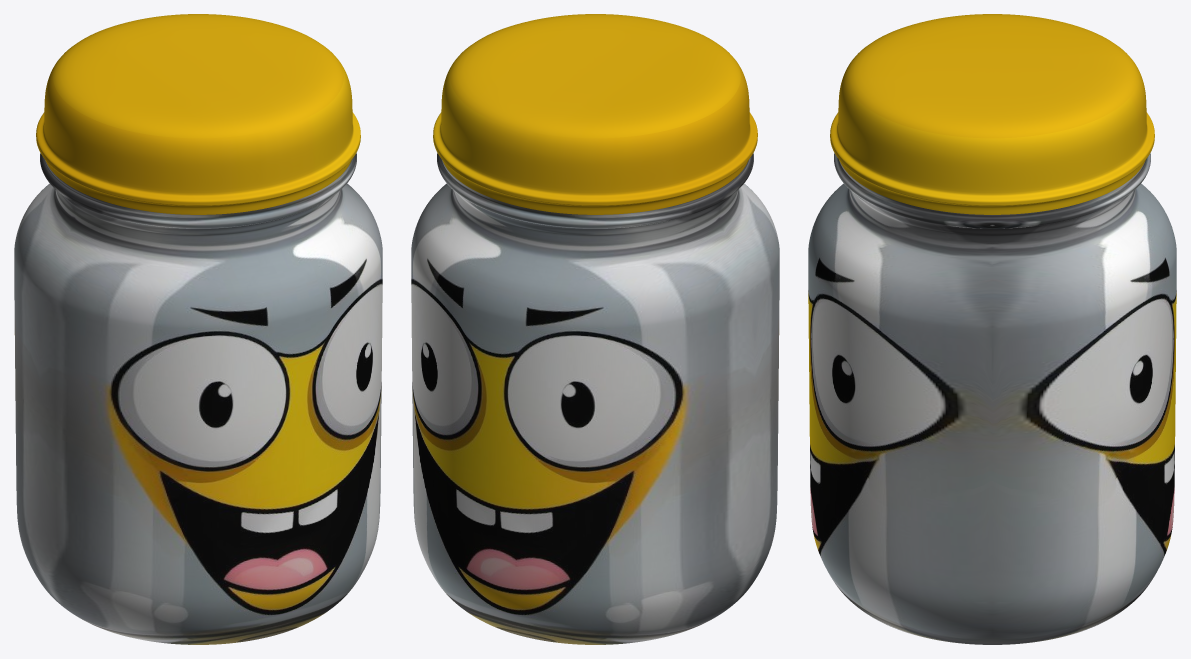
File: 3d_vidro.gltf
3 renders of one model, left to right at view 1: azimuth 30°, elevation 25°; view 2: azimuth 150°, elevation 25°; view 3: azimuth 270°, elevation 25°, orthographic.
Visible parts, largest first — view 1: Cylinder; view 2: Cylinder; view 3: Cylinder.
Part boxes in pixels (box(x1,y1,x2,y2)): Cylinder: box(14, 14, 382, 644); Cylinder: box(411, 14, 779, 644); Cylinder: box(808, 14, 1176, 644).
Bounding box in the file's own units: 2.37 × 3.69 × 2.37.
1 material, 1 textured.
